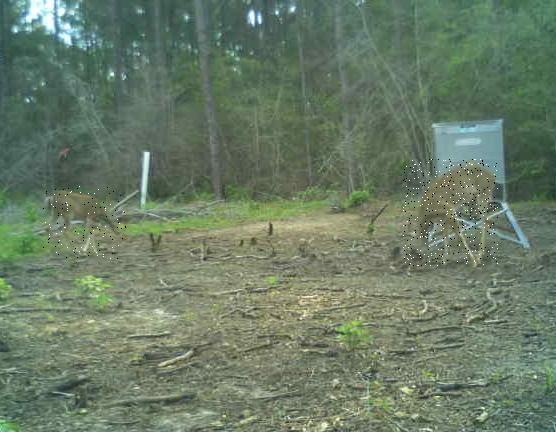Deer: (402, 160, 497, 267), (43, 186, 126, 260)
